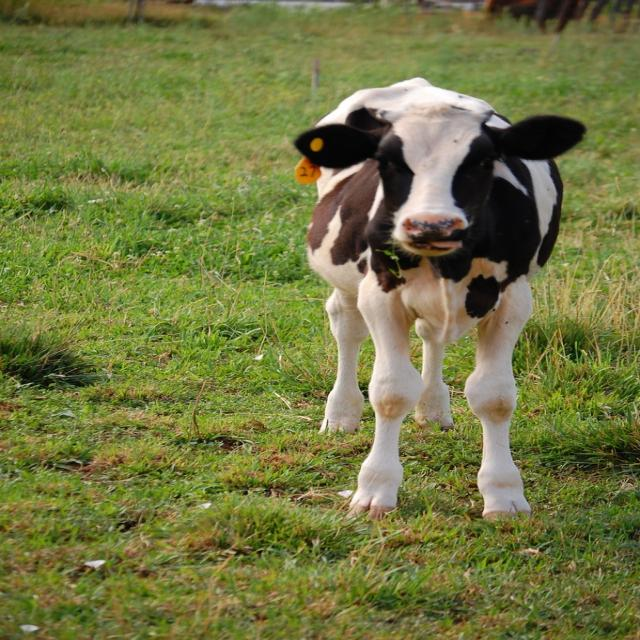Cattle: (296, 75, 591, 520)
